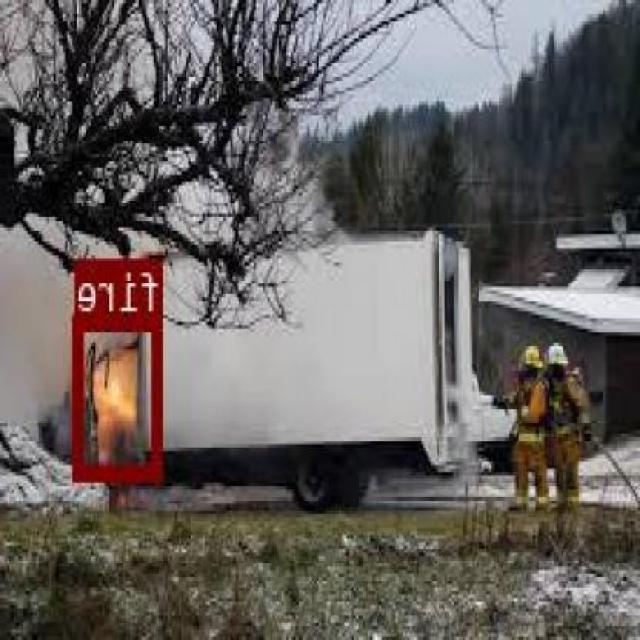Fire: (74, 312, 164, 478)
